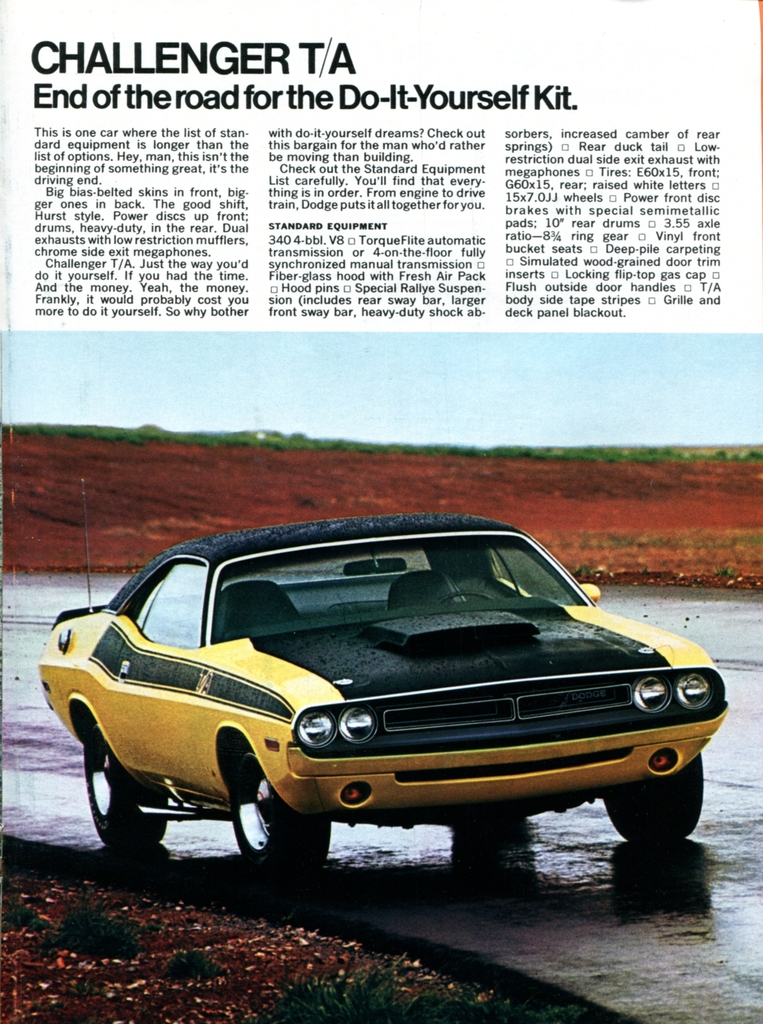Car: (38, 478, 728, 882)
